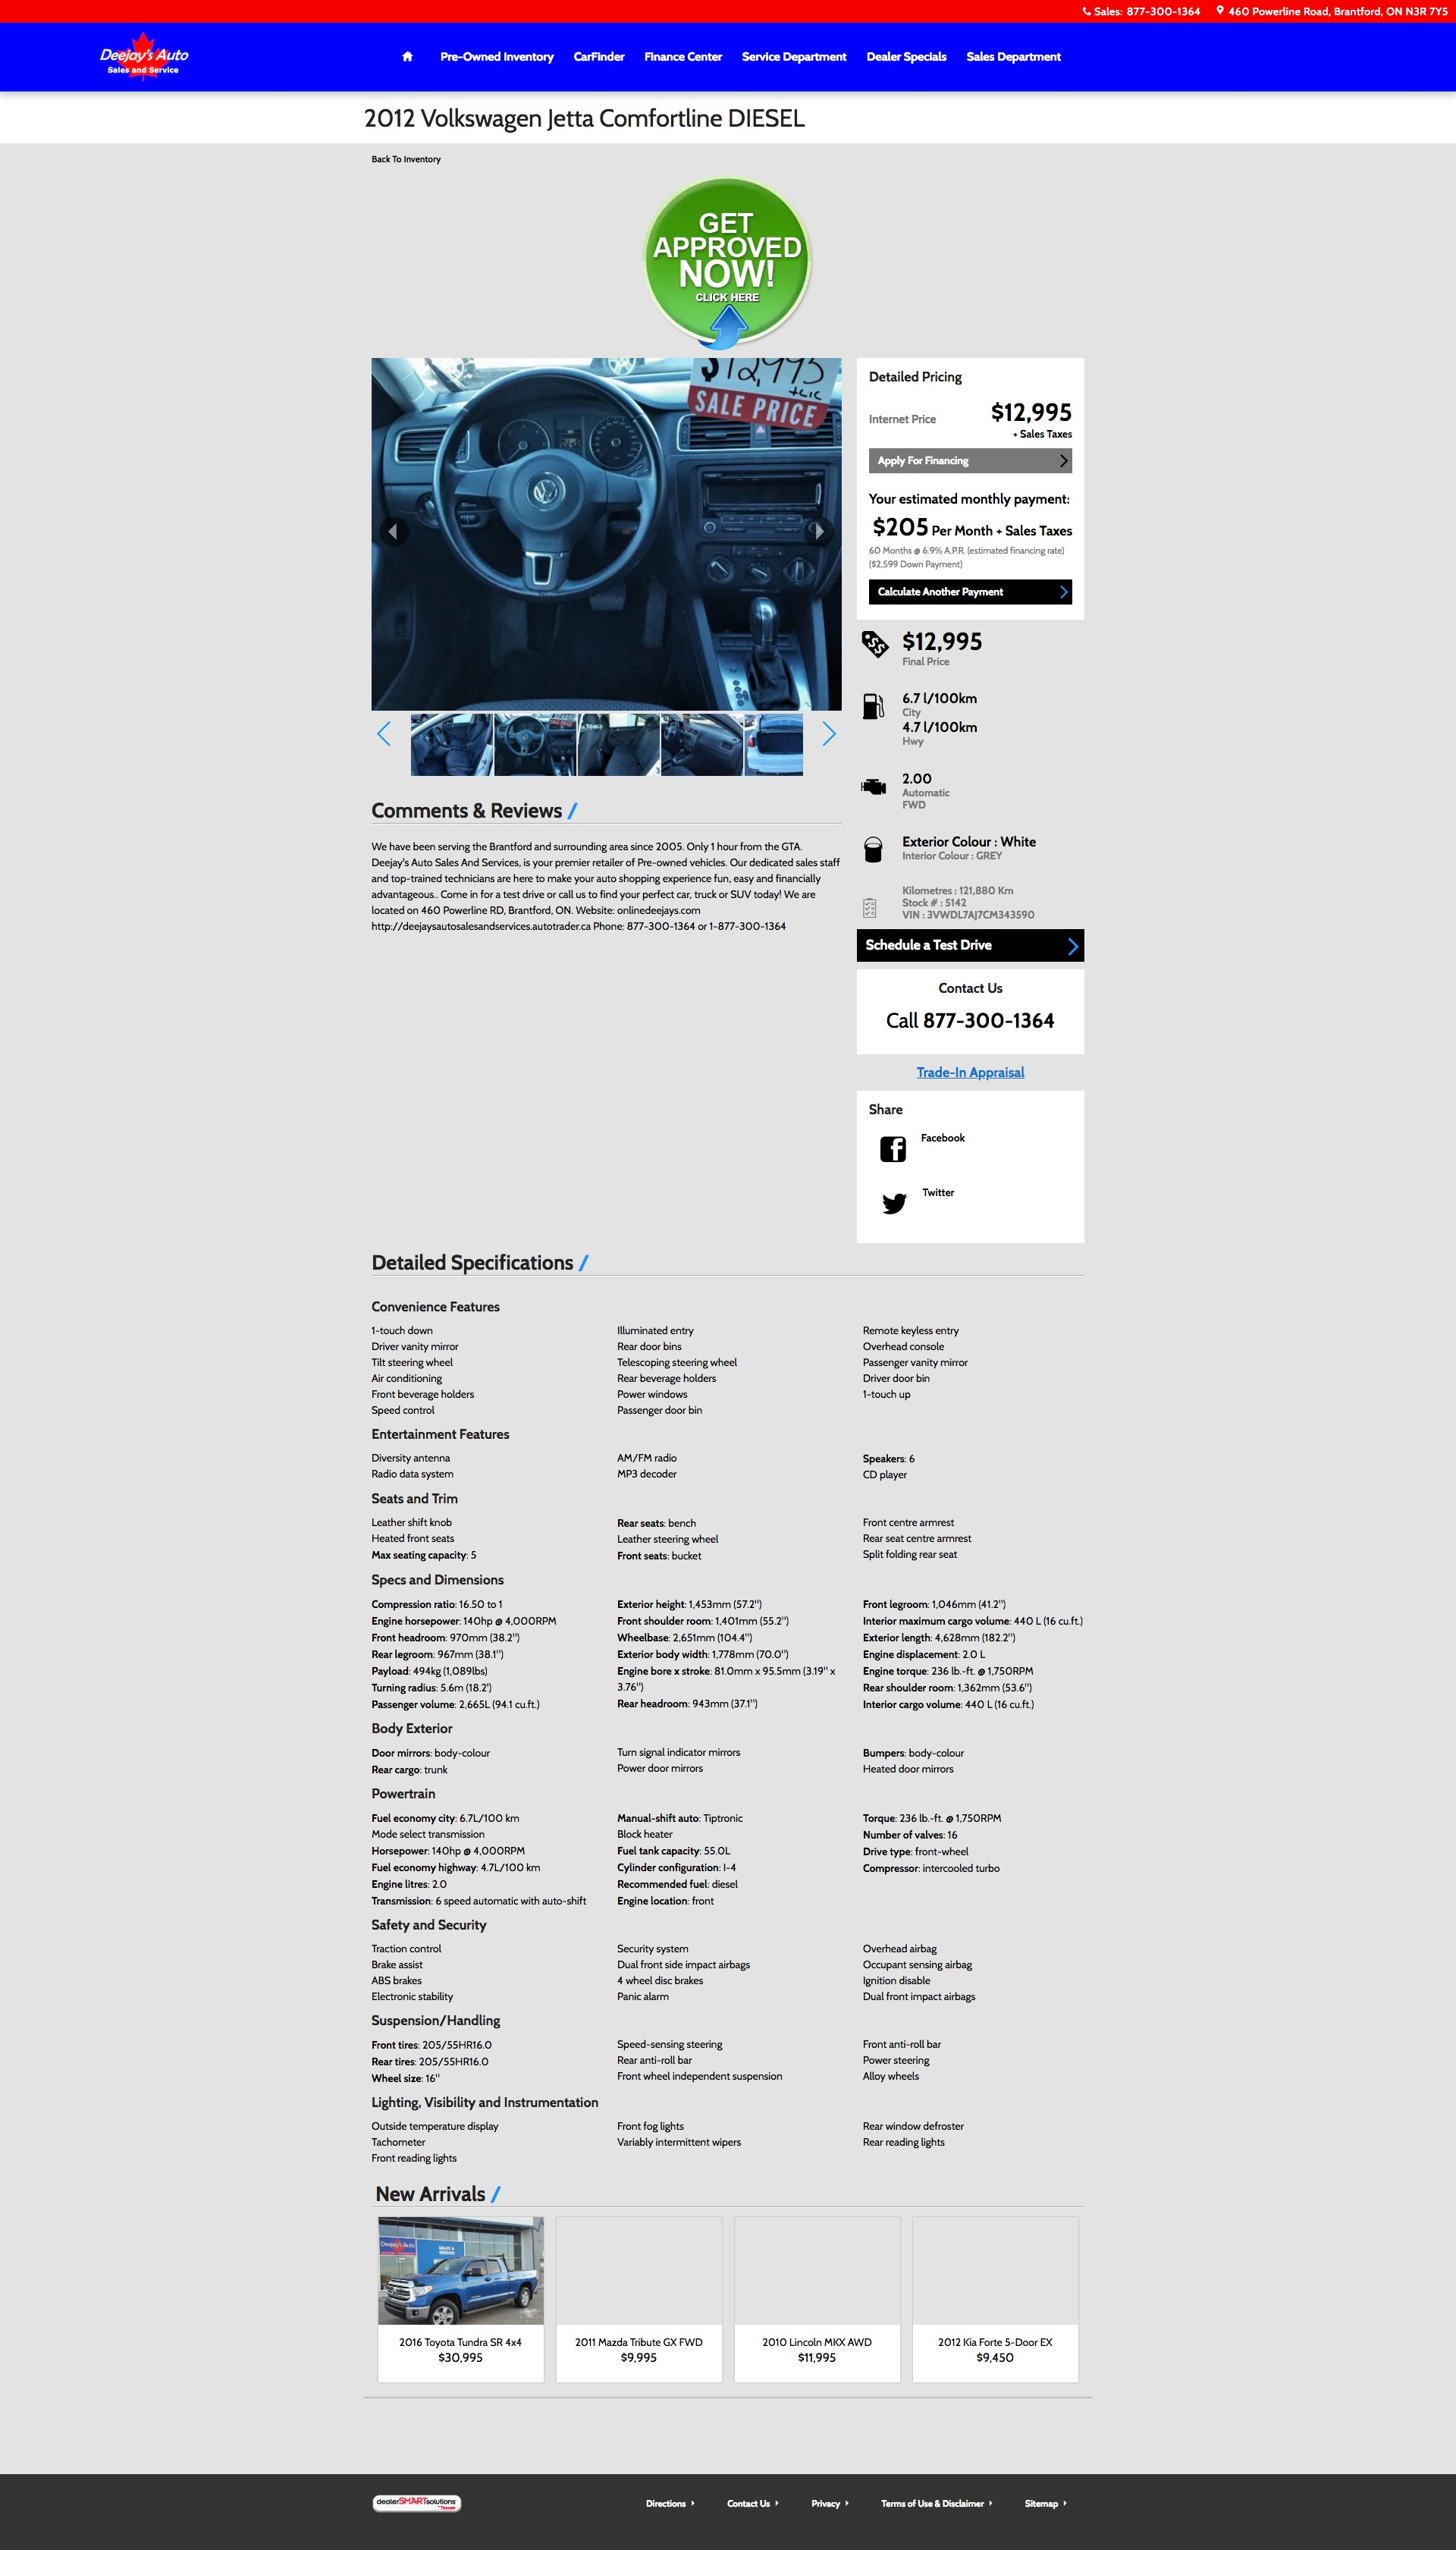car: (822, 722, 836, 748)
